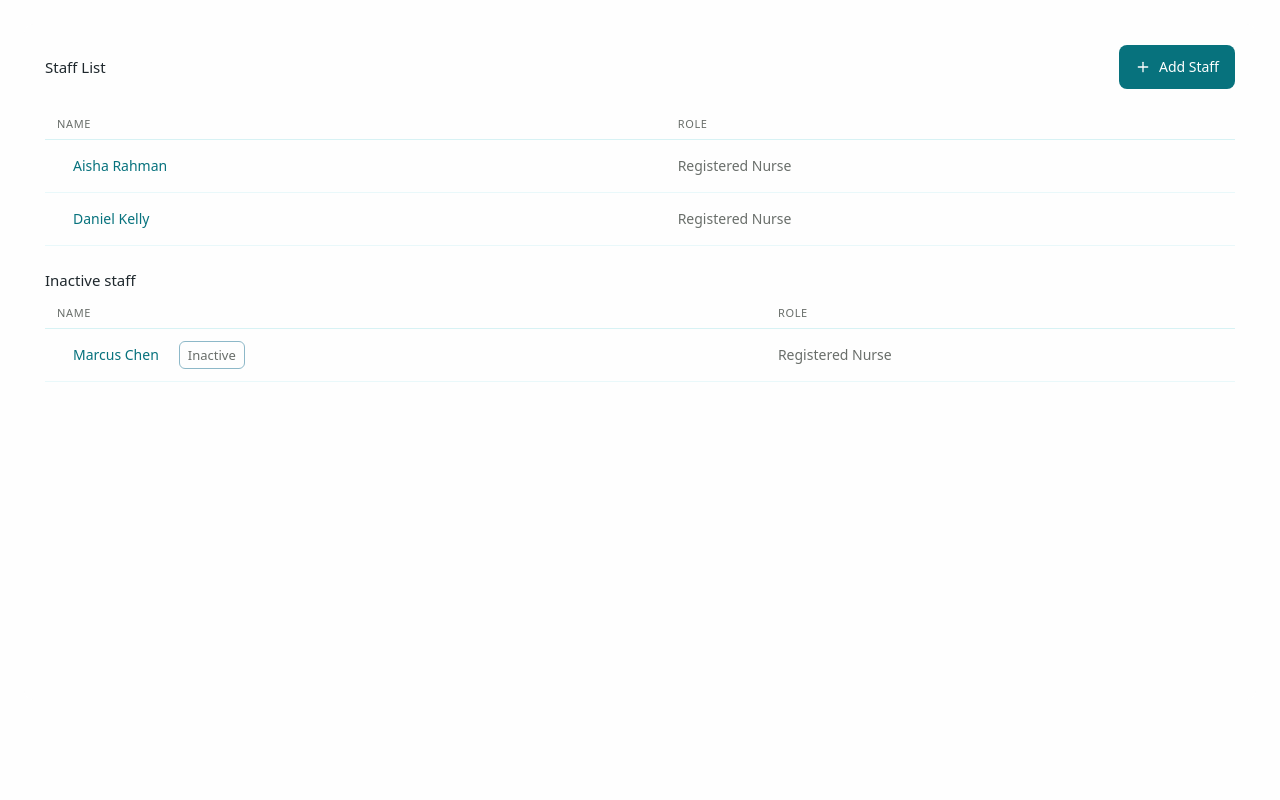
[ADM-03][AC-07] Deactivate with confirmation › [ADM-03][AC-07] asks first, naming the carer and what happens, and does nothing on Cancel
Click the button with aria-label "Edit Aisha Rahman": (120, 166) [57, 144, 183, 188]
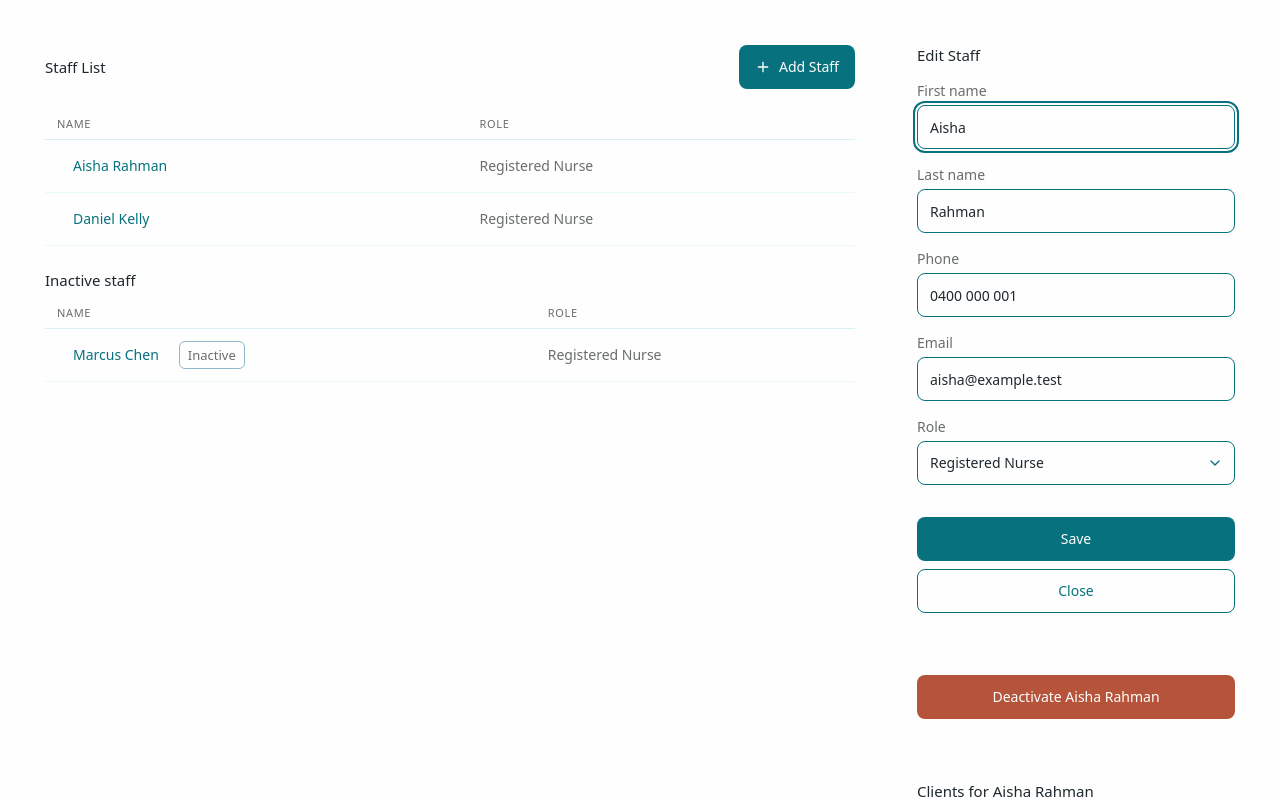
Click the button "Deactivate Aisha Rahman": (1076, 697) [917, 675, 1235, 719]
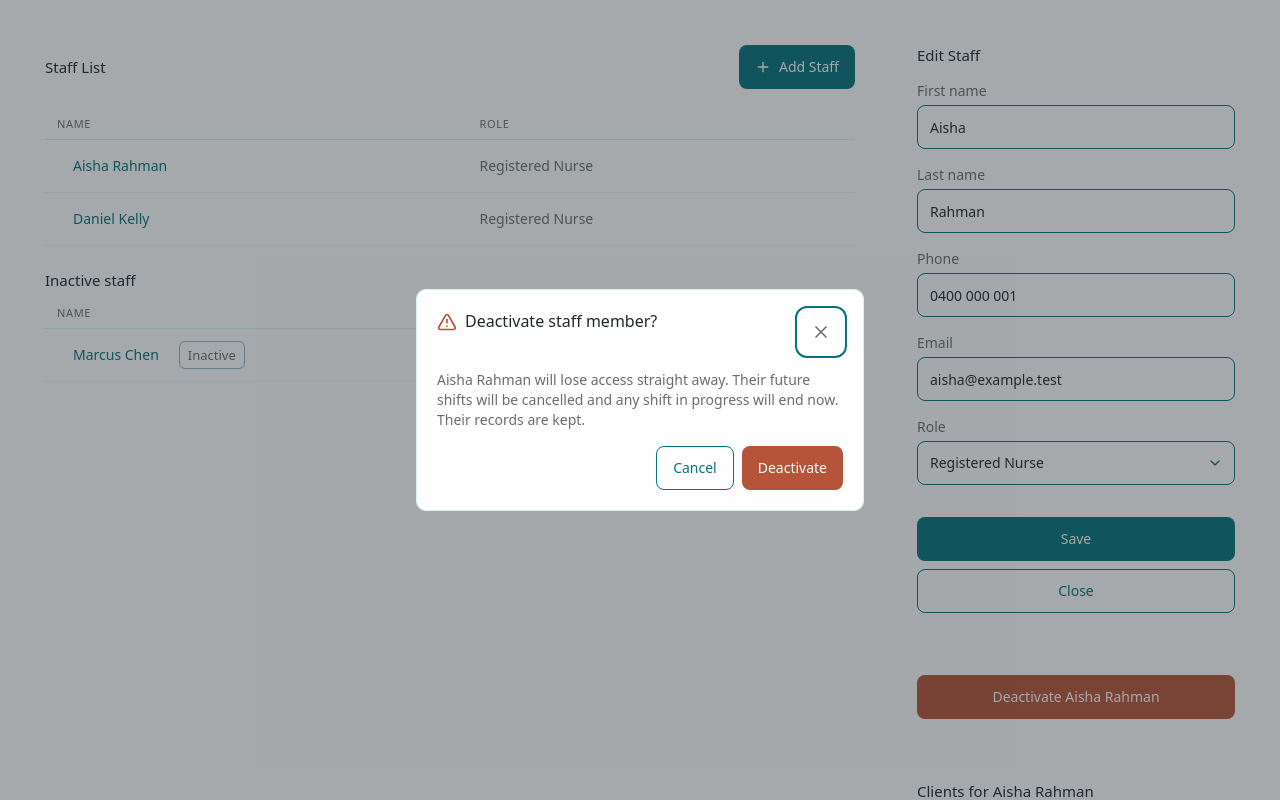
Now the dialog "Deactivate staff member?" shows "Aisha Rahman", box [437, 370, 838, 429]
Click the button "Cancel": (695, 468) [656, 446, 734, 490]
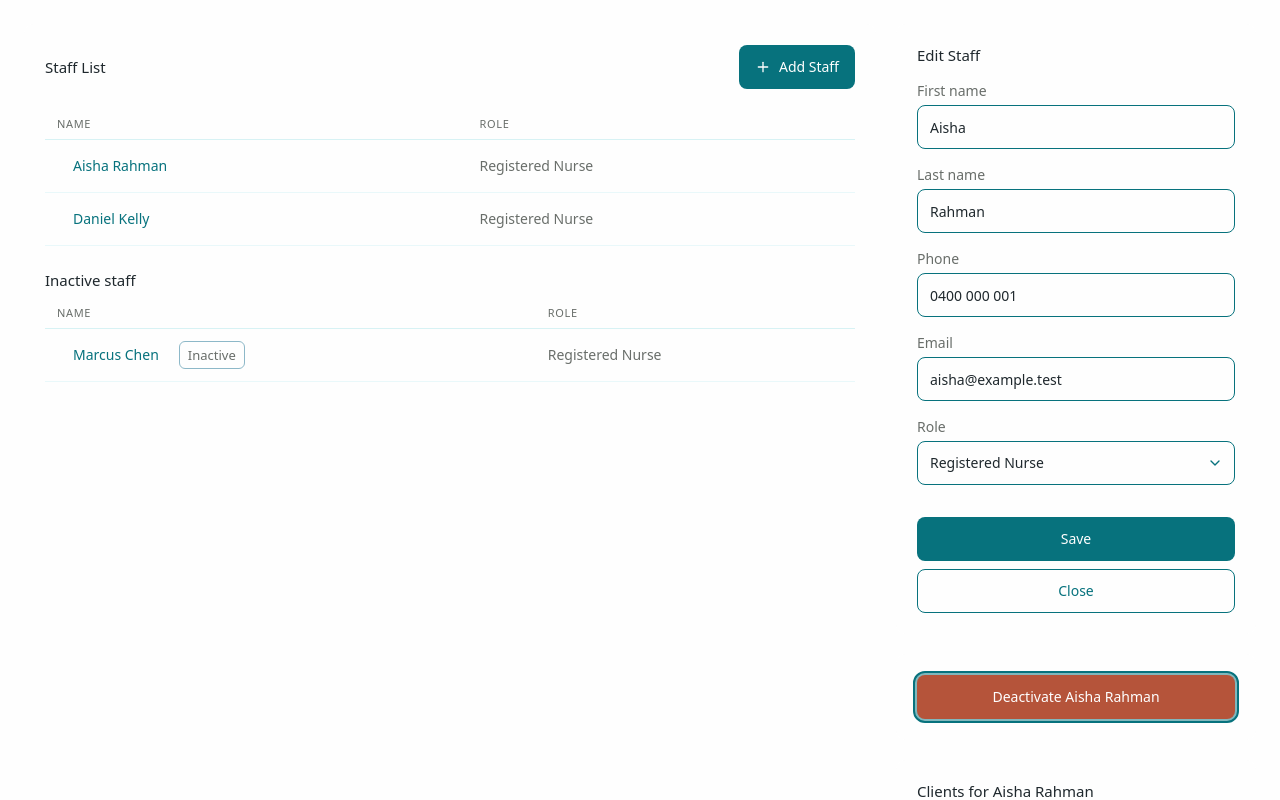
Expected: the element "Inactive staff" is shown, [45, 270, 855, 382]
Now the dialog is gone
